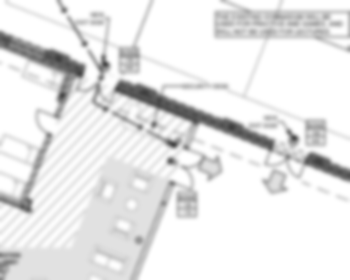door: (33, 107, 61, 136)
double door: (170, 147, 205, 190), (264, 145, 308, 179), (75, 73, 117, 106)
